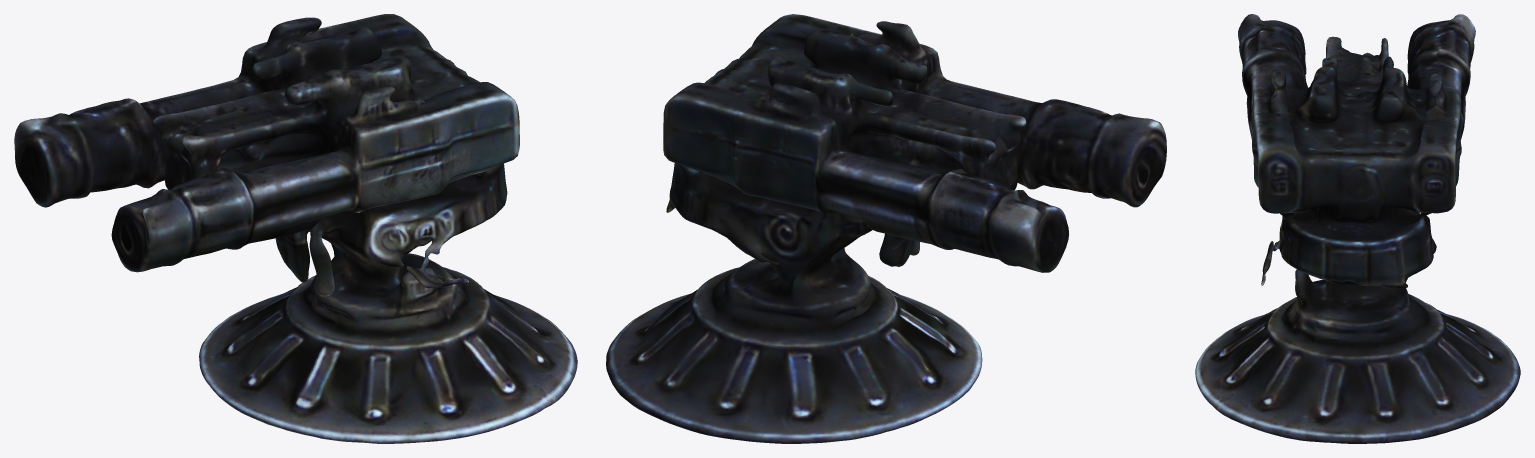
The model's file is machinegun-turret.glb.
The picture shows the model from 3 angles, left to right: view 1: azimuth 30°, elevation 25°; view 2: azimuth 150°, elevation 25°; view 3: azimuth 270°, elevation 25°; orthographic projection. The views are drawn at different scales.
Visible parts, largest first — view 1: high_poly; view 2: high_poly; view 3: high_poly.
Boxes of the visible parts, bbox=[...] form: high_poly: bbox=[14, 14, 577, 443]; high_poly: bbox=[606, 14, 1166, 443]; high_poly: bbox=[1195, 14, 1520, 443].
Size of the model in its own units: 1 by 0.6605 by 0.6941.
1 material, 1 textured.
